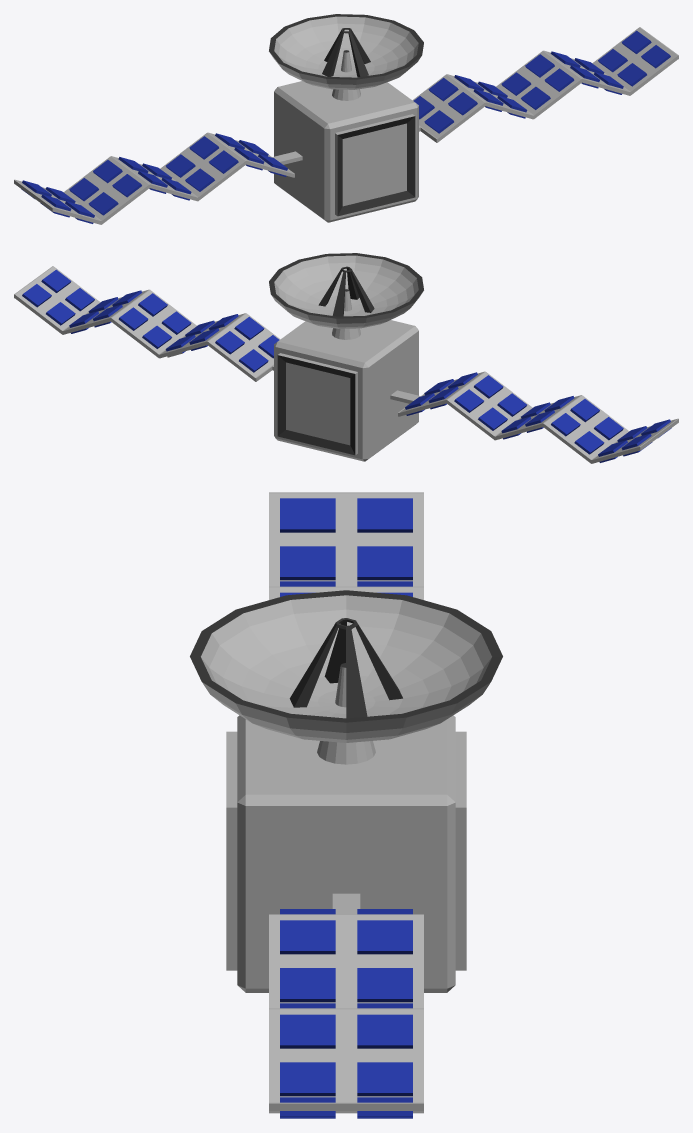
The model's file is satellite.glb.
3 renders of one model, top to bottom at view 1: azimuth 30°, elevation 25°; view 2: azimuth 150°, elevation 25°; view 3: azimuth 270°, elevation 25°, orthographic. The views are drawn at different scales.
Parts seen in each view (by area): view 1: Satelite; view 2: Satelite; view 3: Satelite.
Boxes of the visible parts, left/top/right/bottom form: Satelite: left=14, top=14, right=678, bottom=224; Satelite: left=14, top=253, right=678, bottom=463; Satelite: left=190, top=492, right=502, bottom=1118.
Bounding box in the file's own units: 13.24 × 3.31 × 2.87.
